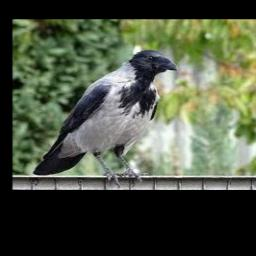Crow: (33, 49, 177, 188)
